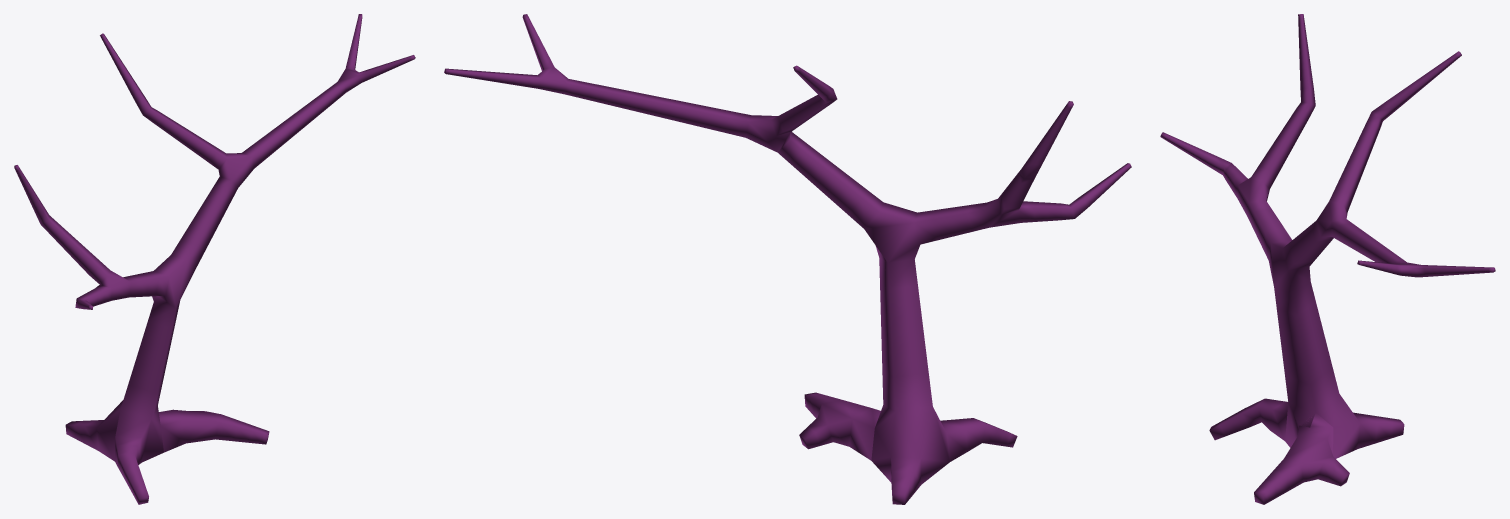
The model's file is DeadTree.glb.
The picture shows the model from 3 angles, left to right: view 1: azimuth 30°, elevation 25°; view 2: azimuth 150°, elevation 25°; view 3: azimuth 270°, elevation 25°; orthographic projection. The views are drawn at different scales.
Visible parts, largest first — view 1: Plane; view 2: Plane; view 3: Plane.
Part boxes in pixels (x1,y1,x2,y2): Plane: (14,14,415,504); Plane: (444,14,1131,504); Plane: (1160,14,1495,504).
Bounding box in the file's own units: 7.08 × 5.87 × 4.2.
